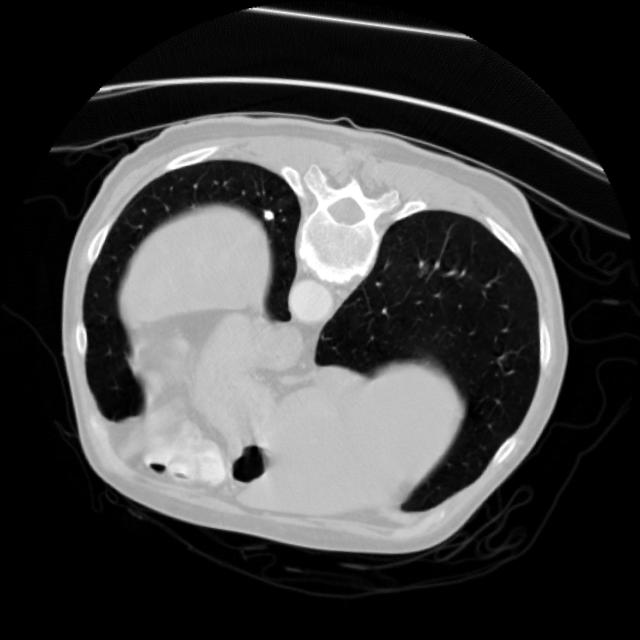nodule: (255, 202, 283, 230)
